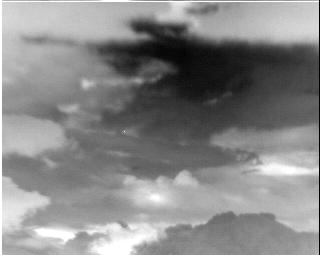Target: (124, 130, 126, 132)
